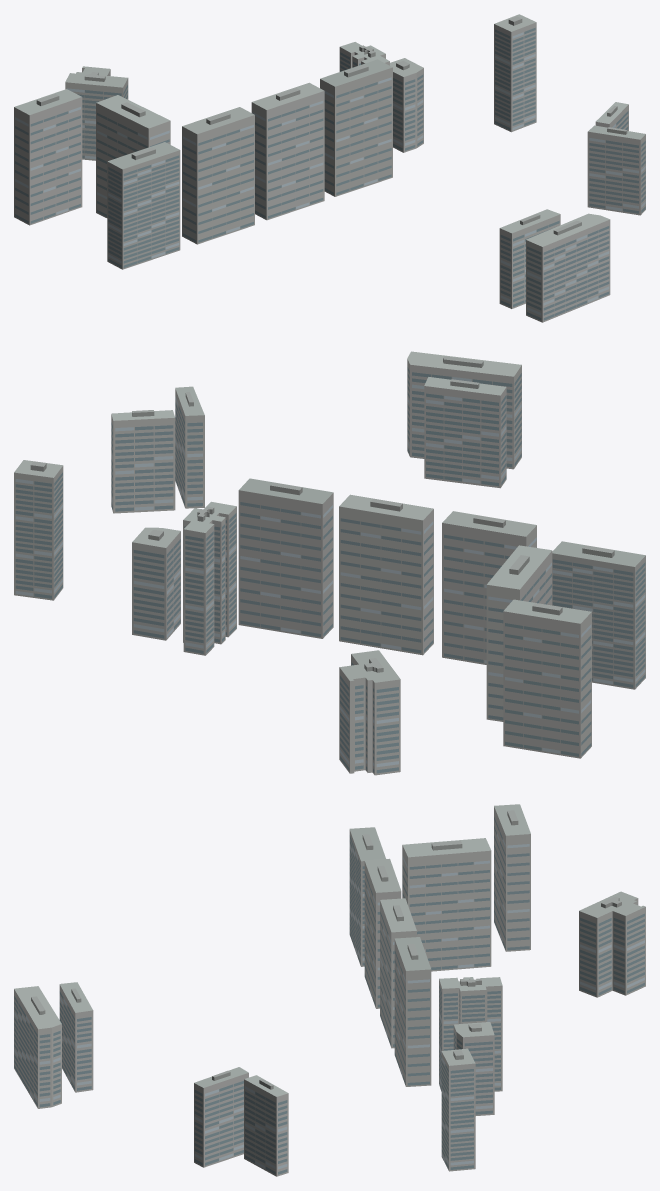
Rendered from apt-a13185607.glb.
The picture shows the model from 3 angles, top to bottom: view 1: azimuth 30°, elevation 25°; view 2: azimuth 150°, elevation 25°; view 3: azimuth 270°, elevation 25°; orthographic projection. The views are drawn at different scales.
Parts seen in each view (by area): view 1: apt-a13185607; view 2: apt-a13185607; view 3: apt-a13185607.
Part boxes in pixels (box(x1,y1,x2,y2)): apt-a13185607: box(14, 14, 645, 322); apt-a13185607: box(14, 351, 645, 775); apt-a13185607: box(14, 804, 645, 1176).
Size of the model in its own units: 316 by 69 by 329.
